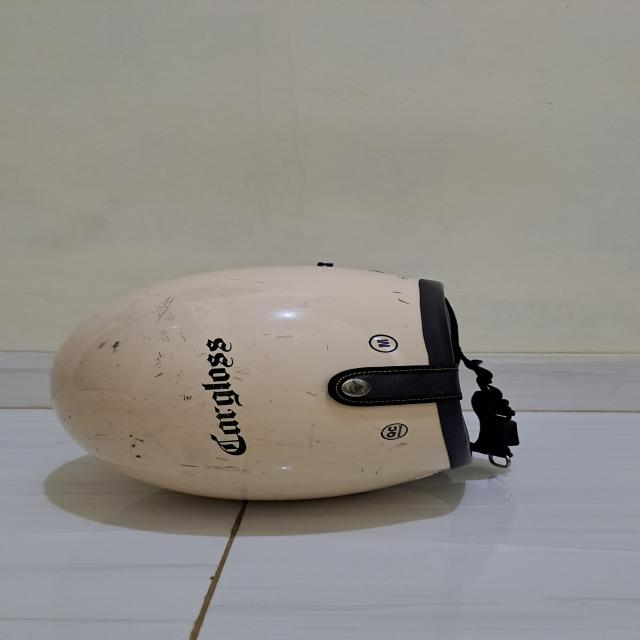Helm: (46, 250, 541, 507)
